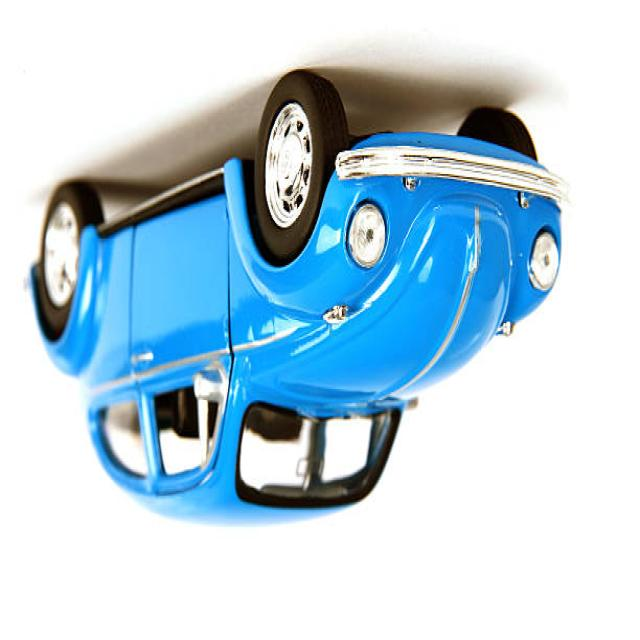Car: (25, 69, 568, 529)
